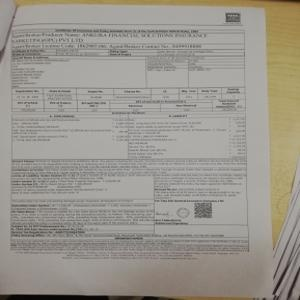image: (222, 10, 244, 24)
table: (12, 28, 247, 113), (14, 115, 248, 161)
text: (10, 237, 251, 264)
